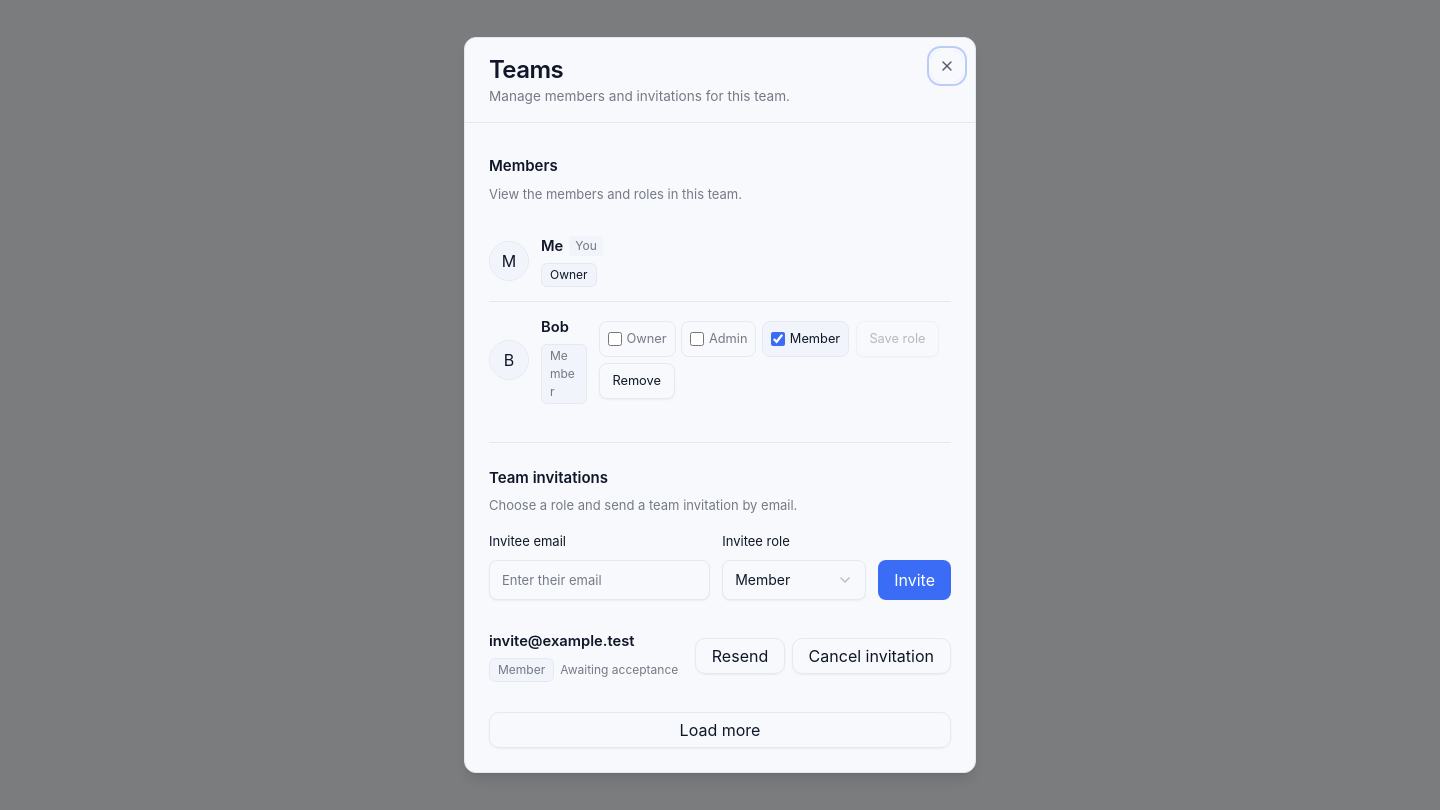
Test: fixed-tenant Team Product UI › pages invitations by owner cursor
The width and height of the screenshot is (1440, 810).
Click the button with test id "invitations-more".
click(720, 730)  # box 489,712 -> 951,748
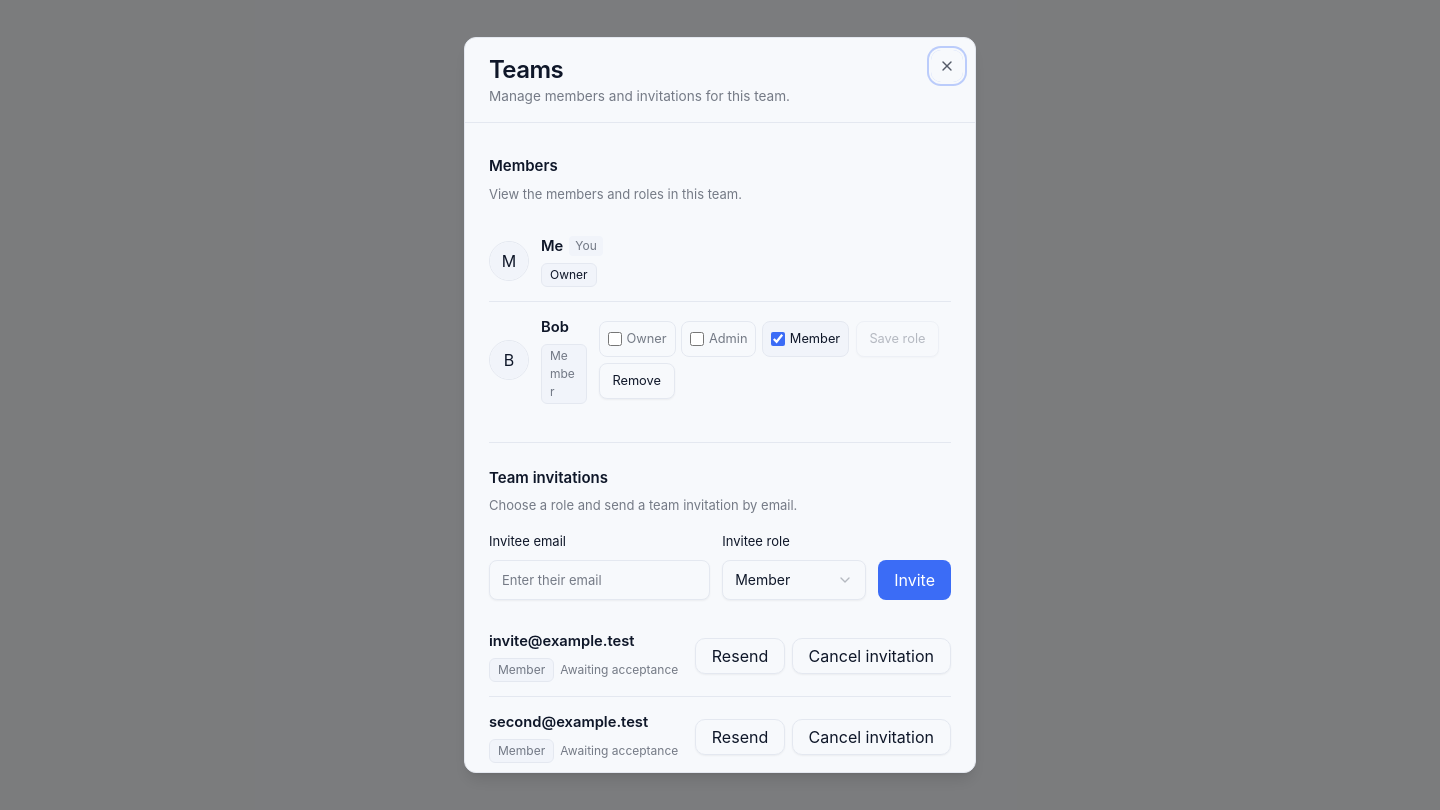
Now the element with test id "invitation-row-inv-2" shows "second@example.test", box 489,713 -> 648,731
